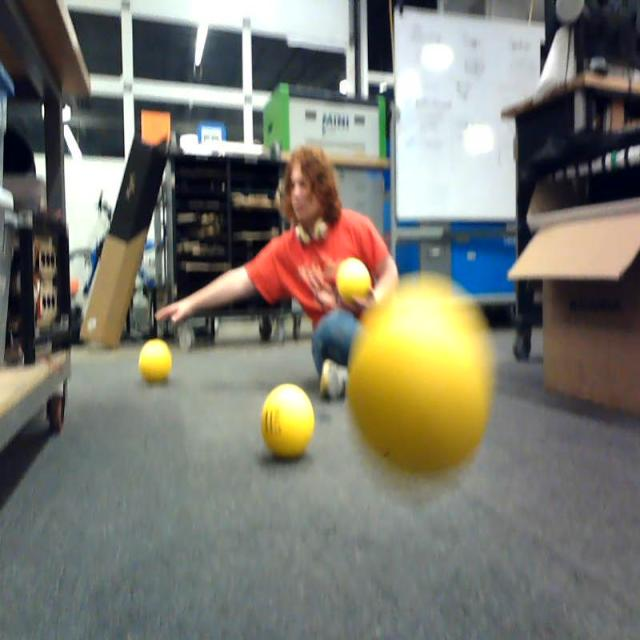Fuel: (349, 282, 487, 475), (262, 383, 314, 459), (337, 258, 372, 308), (139, 340, 172, 384)
